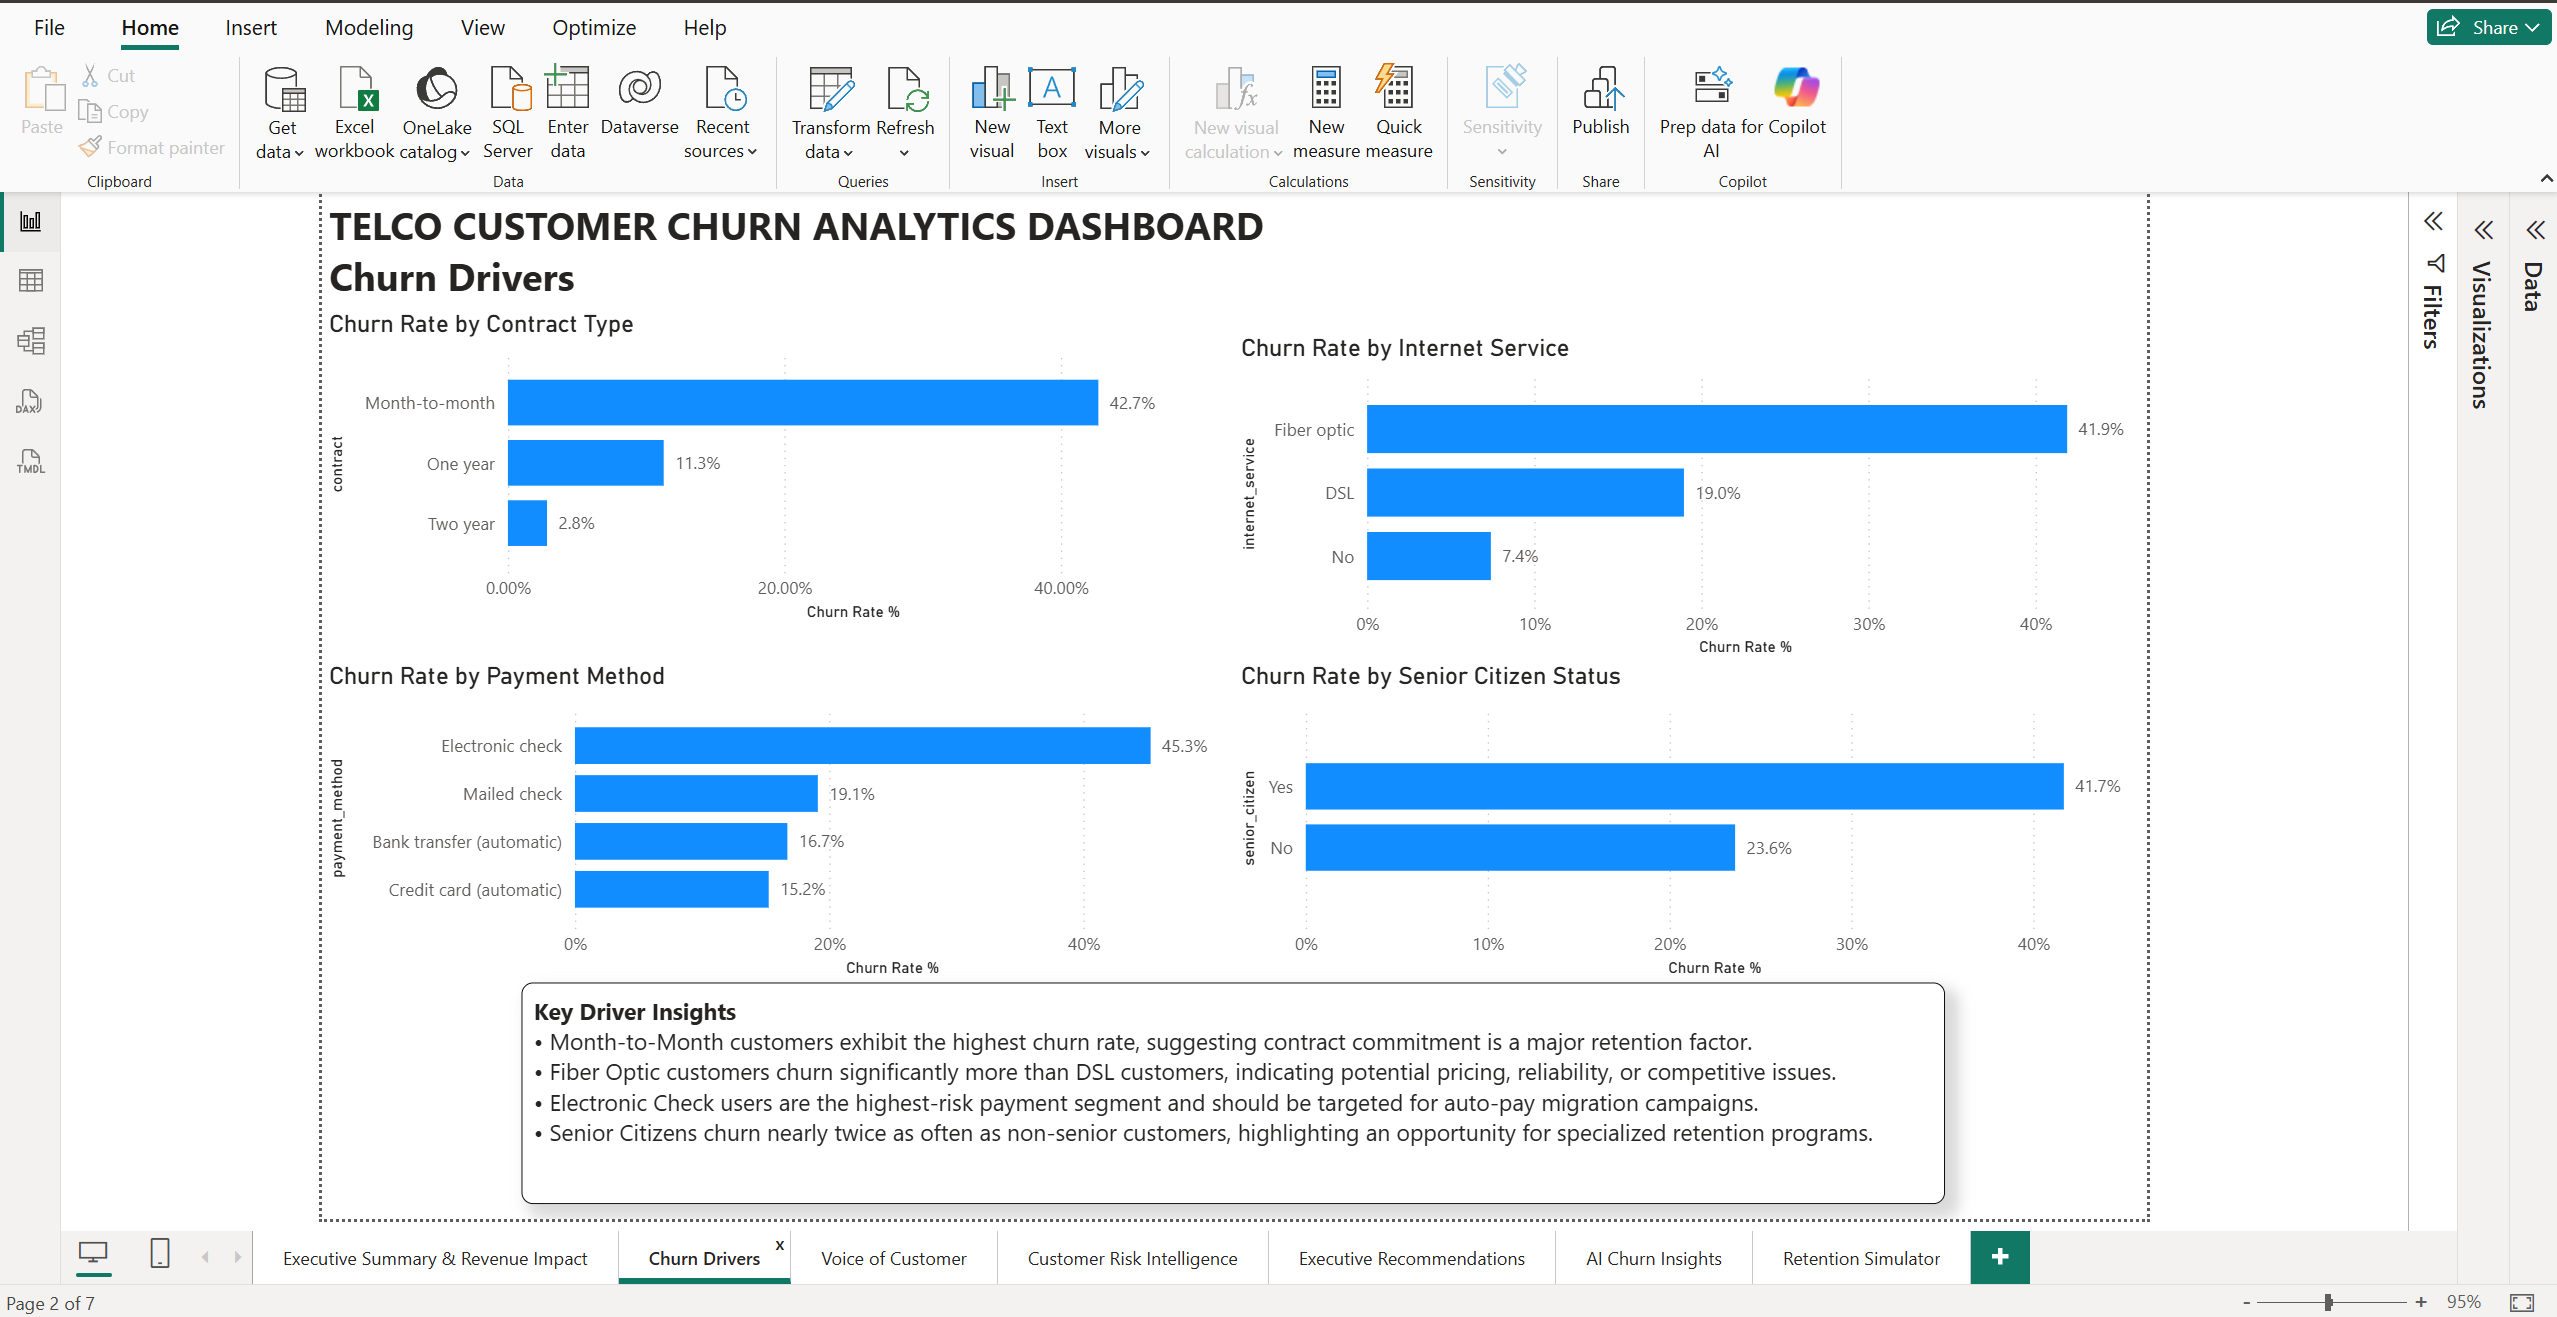

This screenshot's page, from the dashboard's own definition file:
{"tool":"powerbi","page":{"name":"Churn Drivers","canvas":[1280,720],"ordinal":1},"visuals":[{"type":"textbox","box":[0,0,679,82.3],"z":0},{"type":"clusteredBarChart","title":"Churn Rate by Contract Type","fields":{"Category":["Telco.contract"],"Y":["Telco.Churn Rate %"]},"box":[0,82.3,639.6,222.5],"z":1000},{"type":"clusteredBarChart","title":"Churn Rate by Internet Service","fields":{"Category":["Telco.internet_service"],"Y":["Telco.Churn Rate %"]},"box":[639.6,98.5,640.8,230.6],"z":2000},{"type":"clusteredBarChart","title":"Churn Rate by Payment Method","fields":{"Category":["Telco.payment_method"],"Y":["Telco.Churn Rate %"]},"box":[0,329.1,639.6,224.8],"z":3000},{"type":"clusteredBarChart","title":"Churn Rate by Senior Citizen Status","fields":{"Category":["Telco.senior_citizen"],"Y":["Telco.Churn Rate %"]},"box":[639.6,329.1,640.8,224.8],"z":4000},{"type":"textbox","box":[140.2,553.9,997.7,155.3],"z":5000}]}

Visuals, with their boxes on the page's 1280x720 design canvas (x1, y1, x2, y2). These are canvas units, not pixel positions in the 2557x1317 screenshot, which may show the page scaled, cropped or inside an application window:
textbox: {"left": 0, "top": 0, "right": 679, "bottom": 82}
"Churn Rate by Contract Type" clusteredBarChart: {"left": 0, "top": 82, "right": 640, "bottom": 305}
"Churn Rate by Internet Service" clusteredBarChart: {"left": 640, "top": 98, "right": 1280, "bottom": 329}
"Churn Rate by Payment Method" clusteredBarChart: {"left": 0, "top": 329, "right": 640, "bottom": 554}
"Churn Rate by Senior Citizen Status" clusteredBarChart: {"left": 640, "top": 329, "right": 1280, "bottom": 554}
textbox: {"left": 140, "top": 554, "right": 1138, "bottom": 709}
